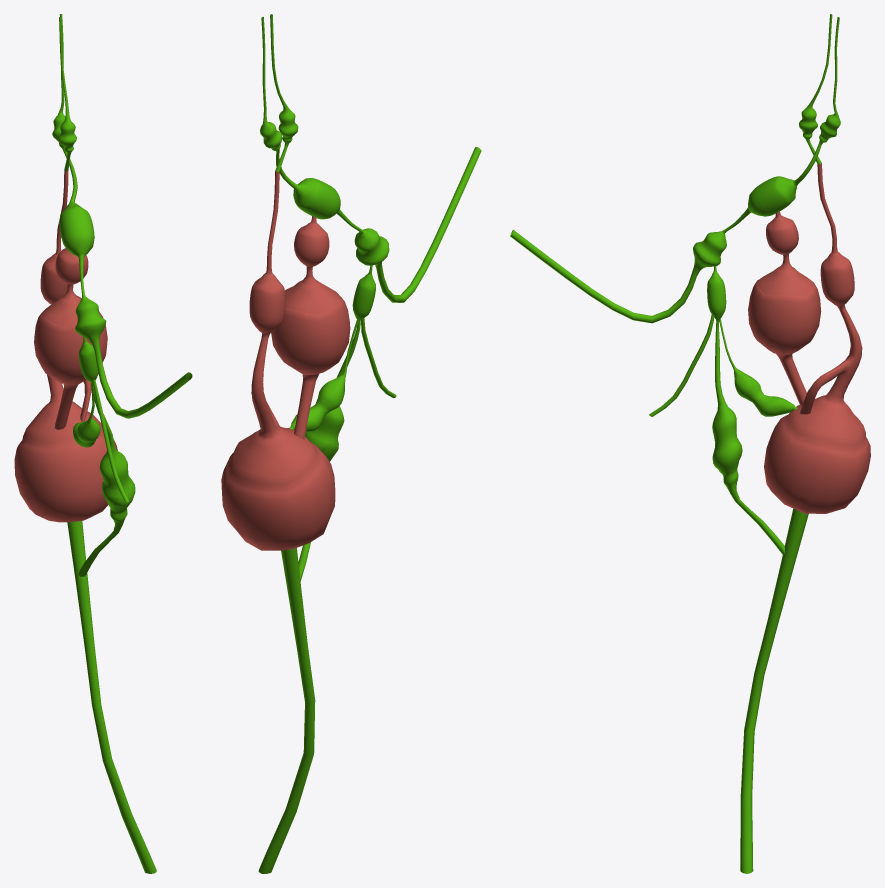
The model's file is Arm_Lymph_Node_3D.fbx.
The picture shows the model from 3 angles, left to right: view 1: azimuth 30°, elevation 25°; view 2: azimuth 150°, elevation 25°; view 3: azimuth 270°, elevation 25°; orthographic projection. The views are drawn at different scales.
Parts seen in each view (by area): view 1: polySurface28, polySurface27; view 2: polySurface28, polySurface27; view 3: polySurface28, polySurface27.
Part boxes in pixels (left/top/right/bottom): polySurface28: left=14, top=14, right=192, bottom=576; polySurface27: left=67, top=521, right=156, bottom=873; polySurface28: left=221, top=14, right=481, bottom=581; polySurface27: left=258, top=548, right=315, bottom=873; polySurface28: left=510, top=14, right=870, bottom=555; polySurface27: left=740, top=508, right=808, bottom=873.
Bounding box in the file's own units: 4.57 × 36.65 × 14.37.
2 materials, 2 textured.
